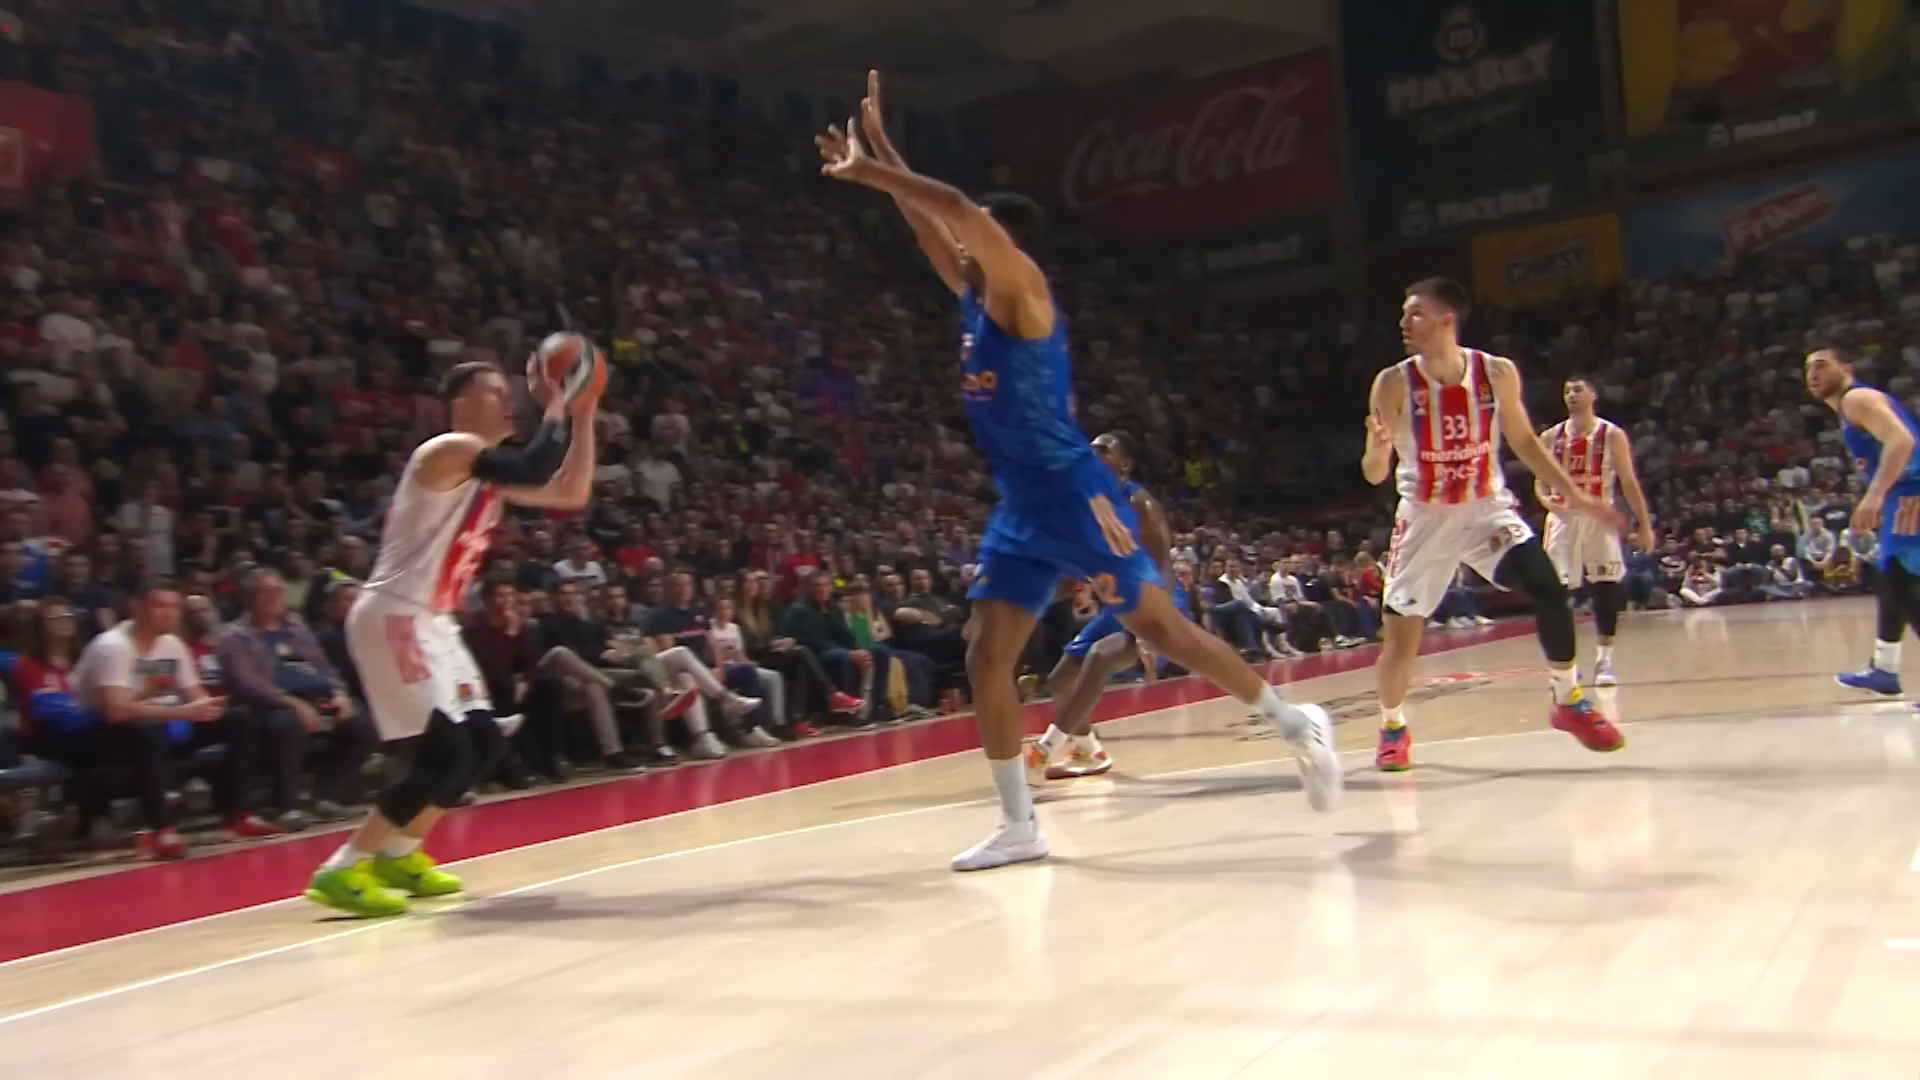ball: (524, 326, 613, 417)
